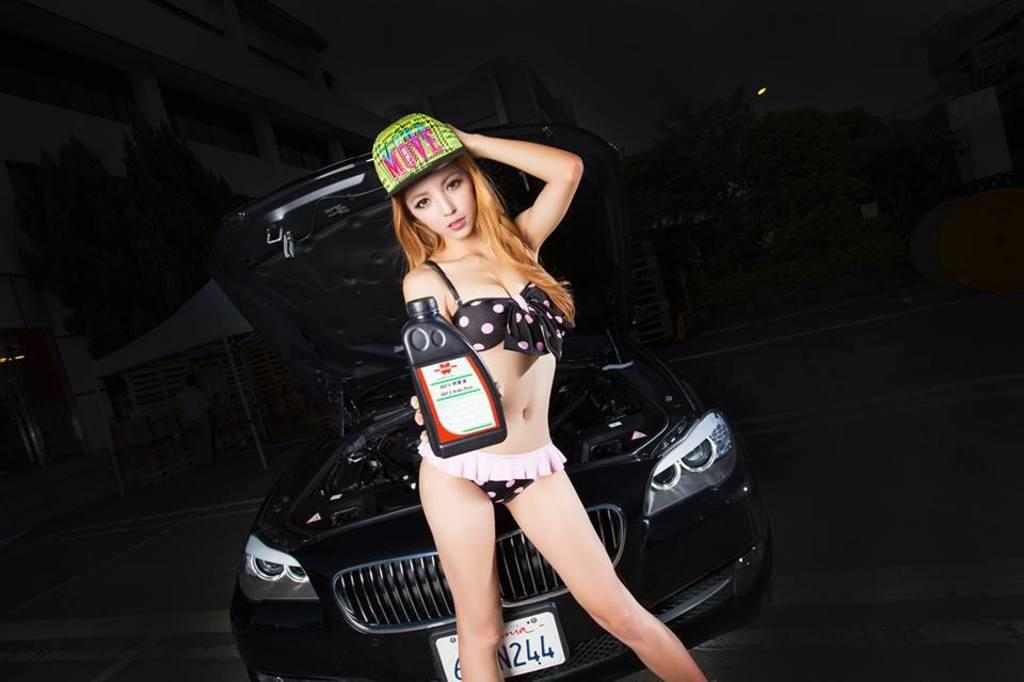Hat: (370, 110, 466, 201)
